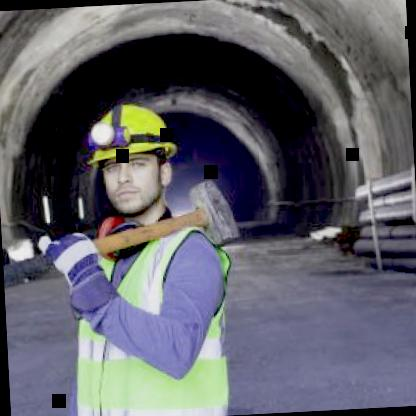helmet: (82, 93, 186, 226)
